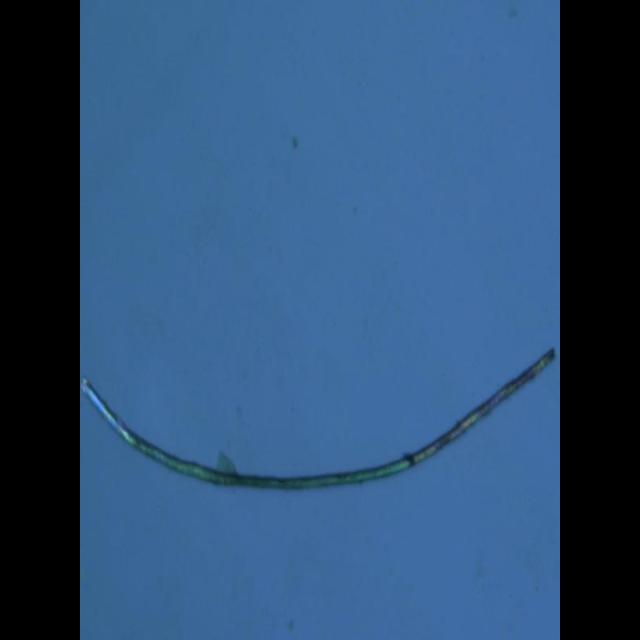Fibre: (81, 346, 556, 492)
